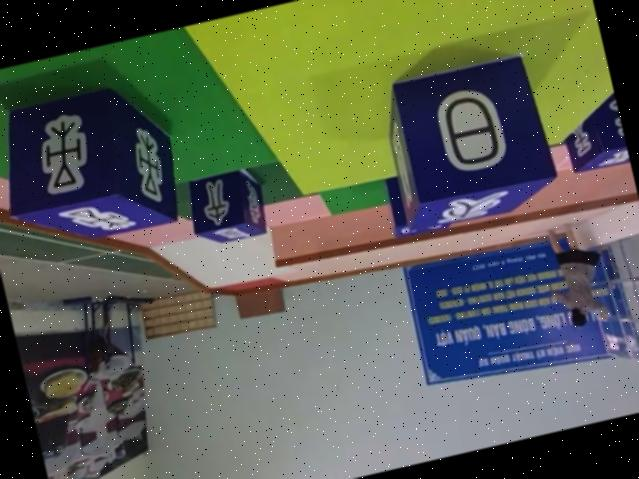R2 Fake Blue: (178, 165, 268, 250)
R2 Real Blue: (368, 44, 561, 232), (0, 68, 189, 255), (558, 87, 630, 174)
